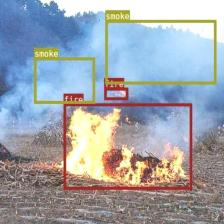fire: (63, 103, 192, 189), (104, 87, 128, 100)
smoke: (105, 20, 216, 83), (34, 57, 94, 103)
